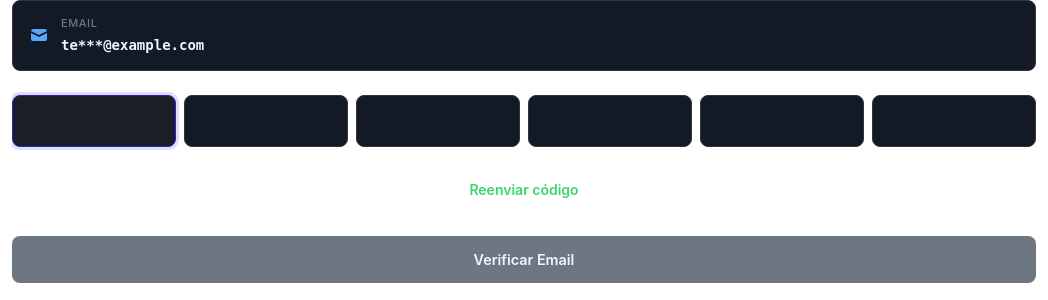
Scenario: ValidateEmailForm › Reenvío de código - CRÍTICO › should show success message after resend
This screenshot has width=1048, height=300.
Click the button "Reenviar código".
click(524, 189)  # box [461,171,587,208]
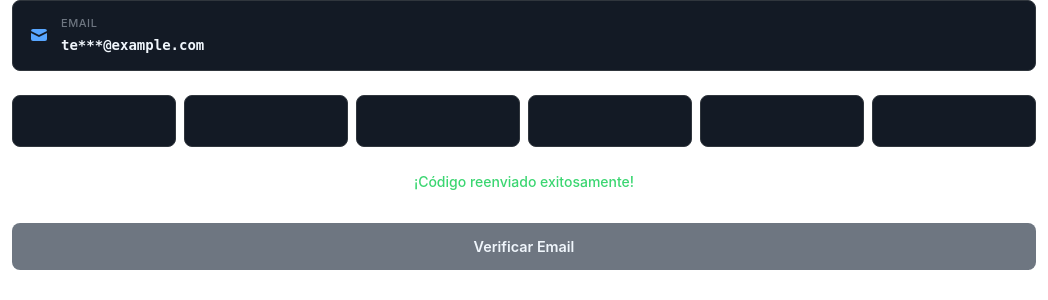
Now the text "¡Código reenviado exitosamente!" is shown, box [414,173,634,190]
